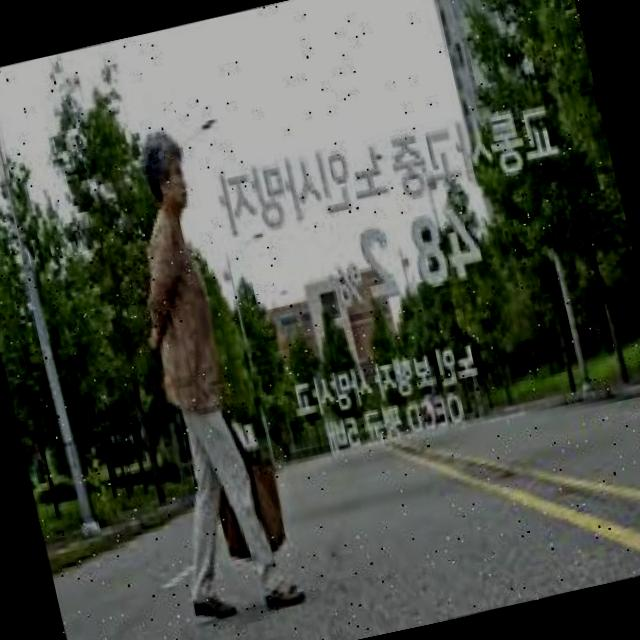Person: (89, 124, 296, 626)
